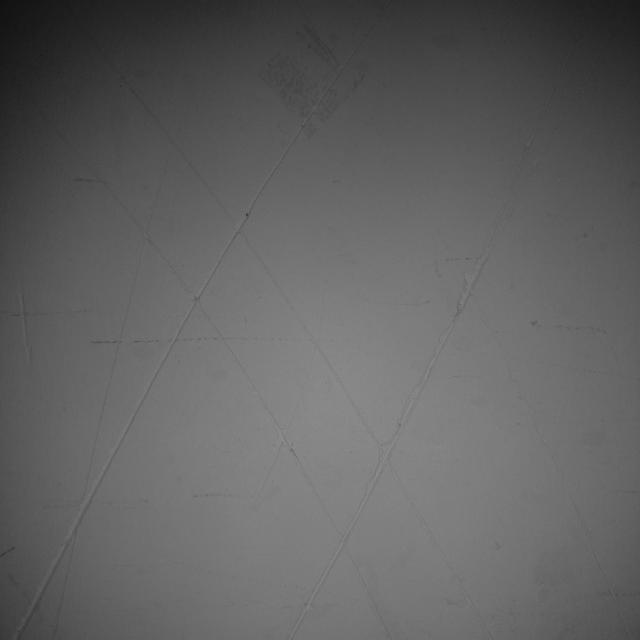rough and patchy surface: (28, 19, 577, 640), (12, 275, 53, 379)
